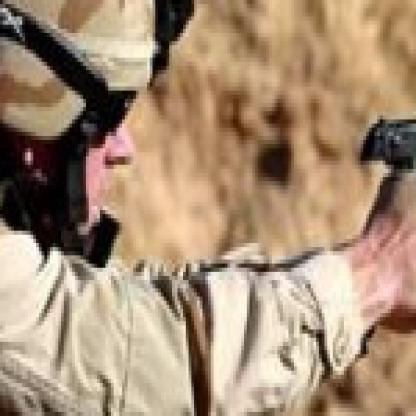gun: (344, 95, 413, 226)
